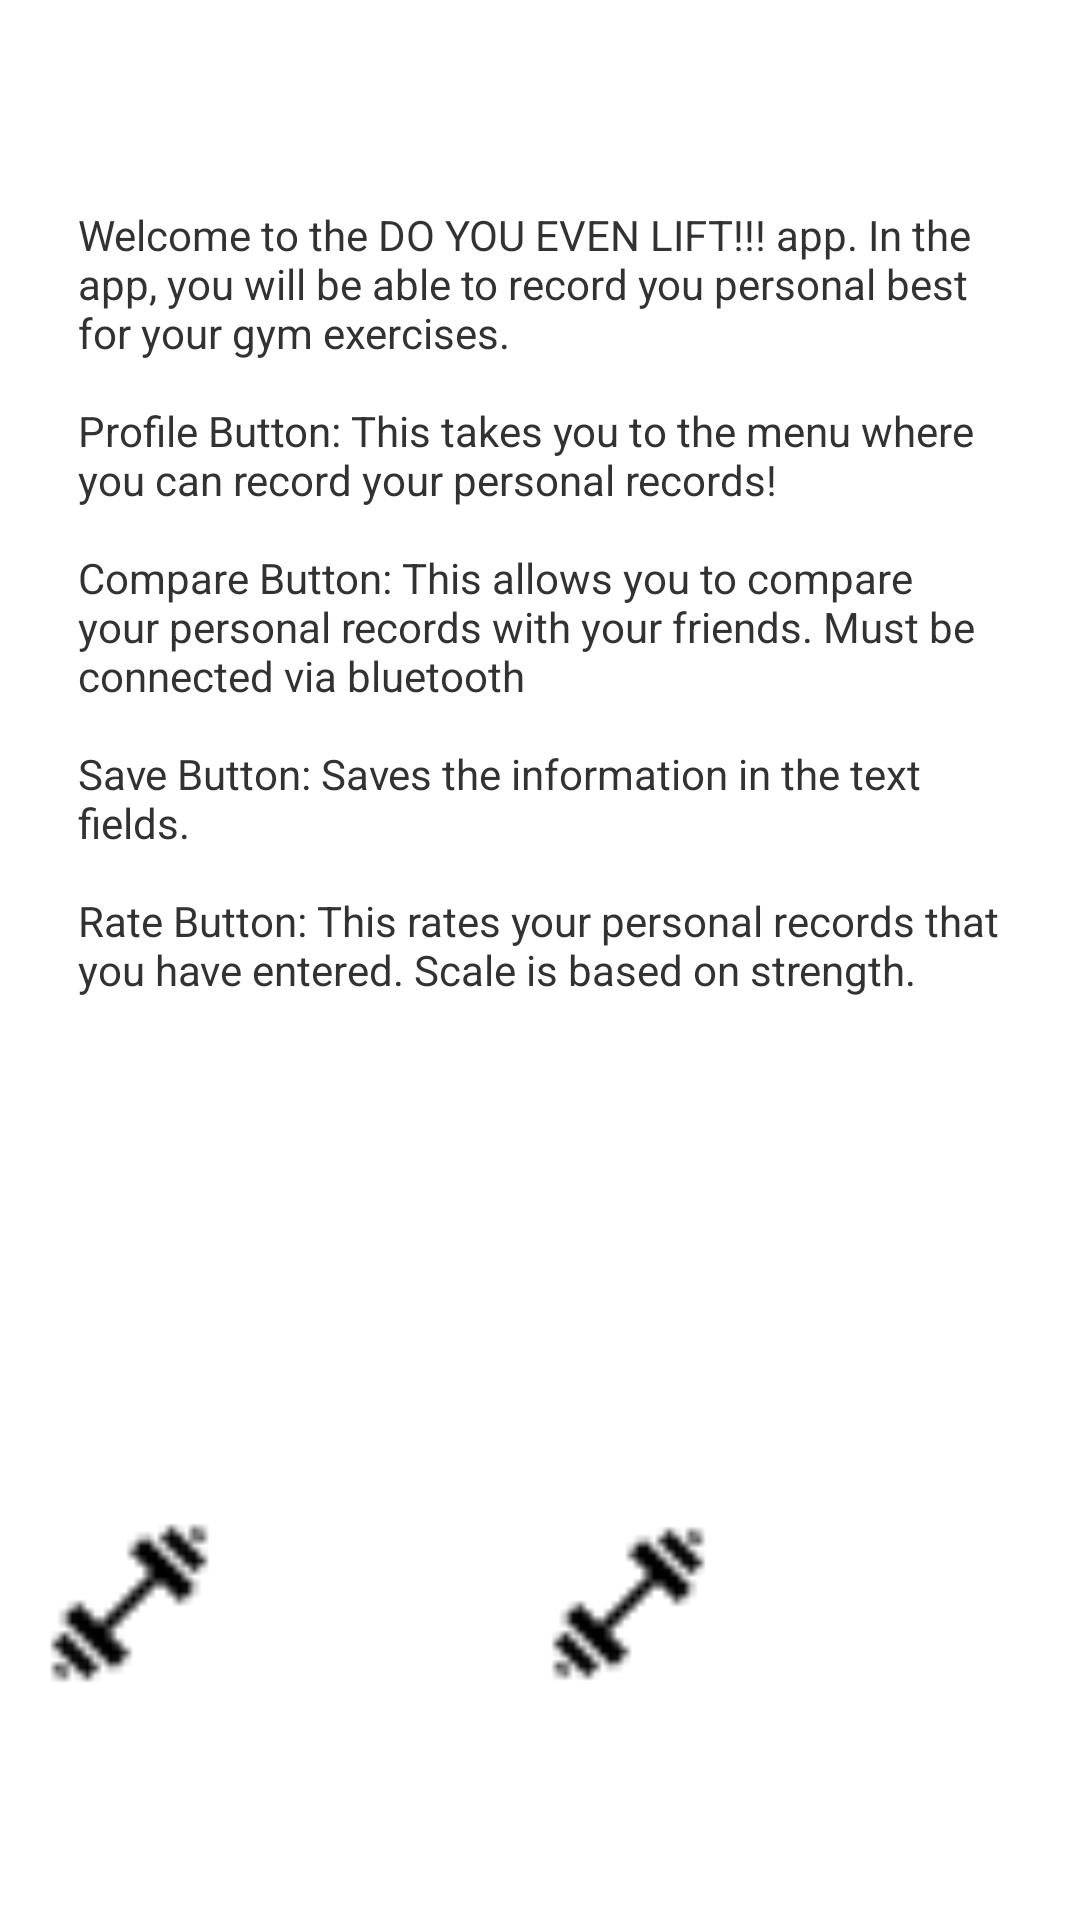

Where to tap for icons on this 1080×1920 app screen, as (x,y):
barbell: (129,1603), (628,1603)
